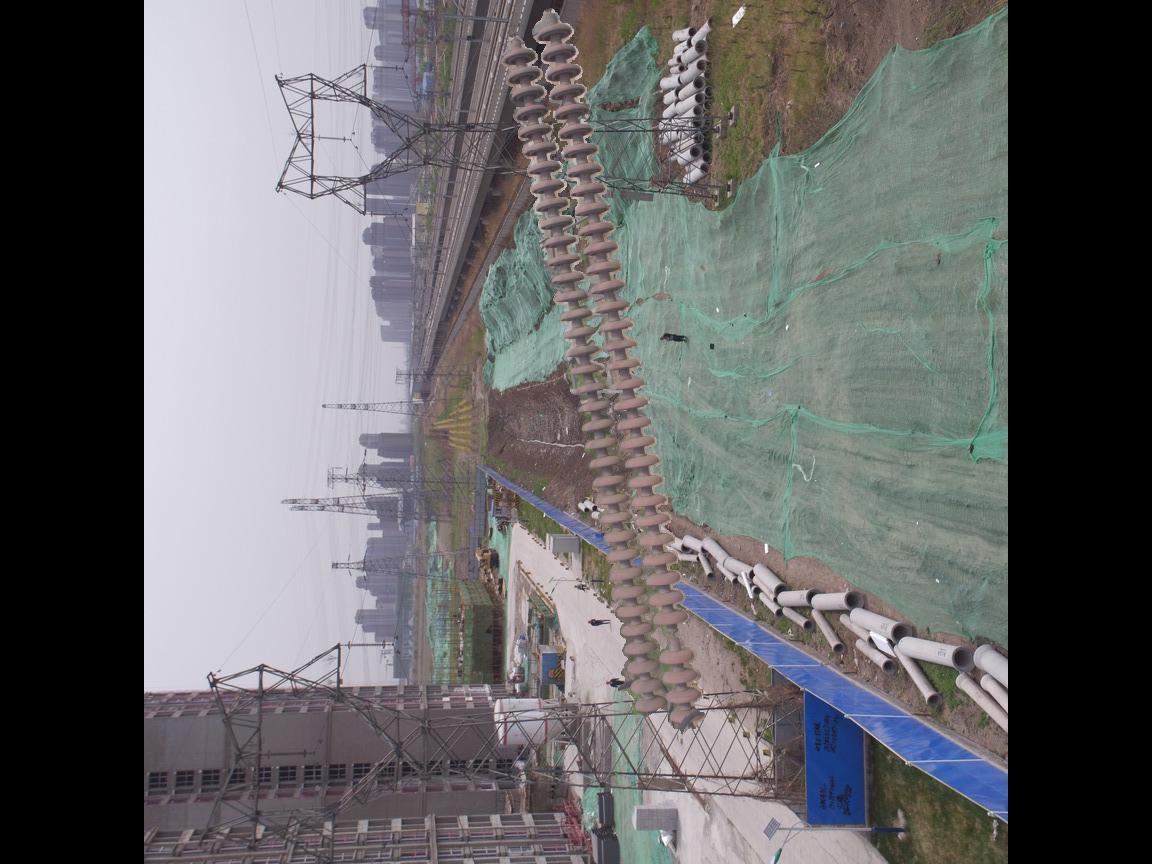insulator: (498, 18, 705, 735)
insulator_stringdrop: (648, 604, 700, 670)
